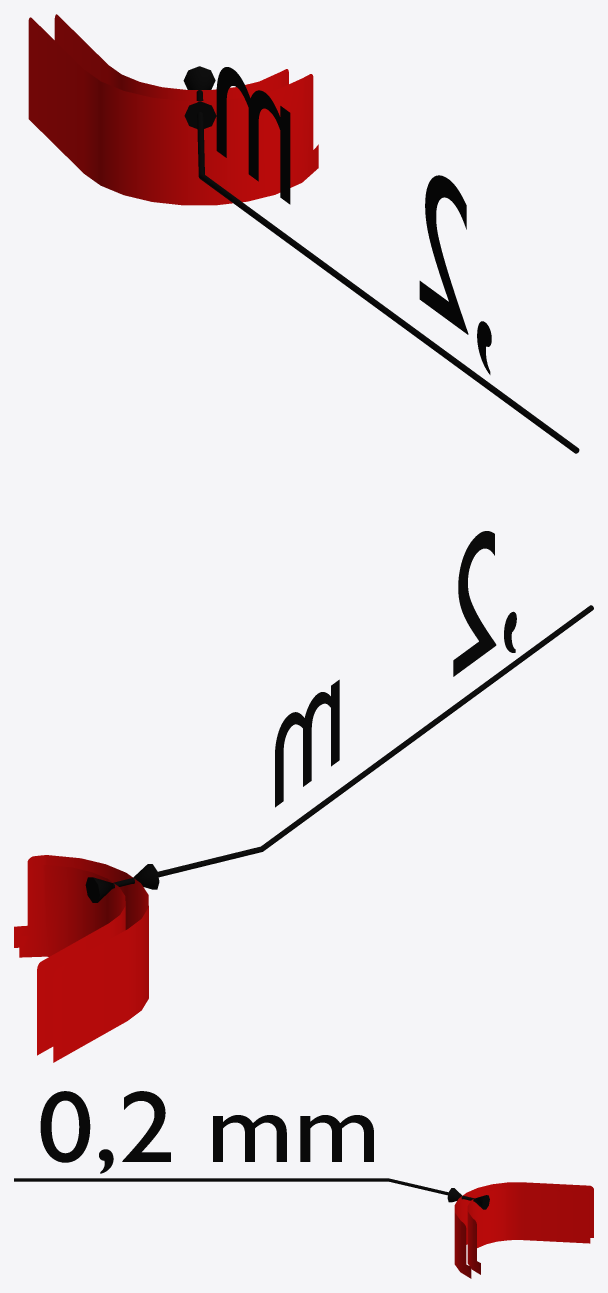
3 views of the same model, one above another, from view 1: azimuth 30°, elevation 25°; view 2: azimuth 150°, elevation 25°; view 3: azimuth 270°, elevation 25° (orthographic). The views are drawn at different scales.
Parts seen in each view (by area): view 1: ZT_forme, Text, NurbsPath, Cone, Cone.001; view 2: ZT_forme, Text, NurbsPath; view 3: ZT_forme, Text, NurbsPath.
Part boxes in pixels (x1,y1,x2,y2): ZT_forme: (28,14,318,205); Text: (216,67,491,374); NurbsPath: (196,89,579,453); Cone: (183,66,215,89); Cone.001: (184,101,216,128); ZT_forme: (14,855,148,1062); Text: (275,531,516,807); NurbsPath: (113,605,593,888); ZT_forme: (454,1182,593,1278); Text: (40,1091,373,1173); NurbsPath: (14,1178,474,1201).
Bounding box in the file's own units: 0.717 × 0.9438 × 3.56.
